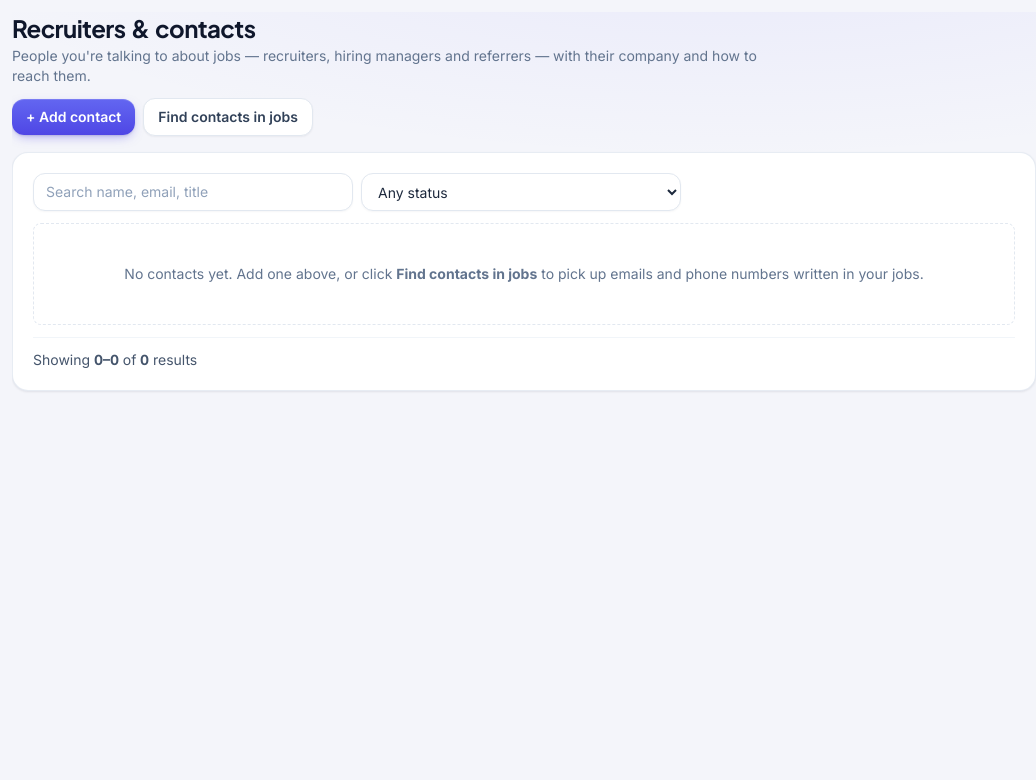
Scenario: forms open on request › recruiters: Add contact opens the form
Expected: the button "Save contact" is not shown
Click the button "+ Add contact". click: point(74, 117)
box: [12, 99, 135, 135]
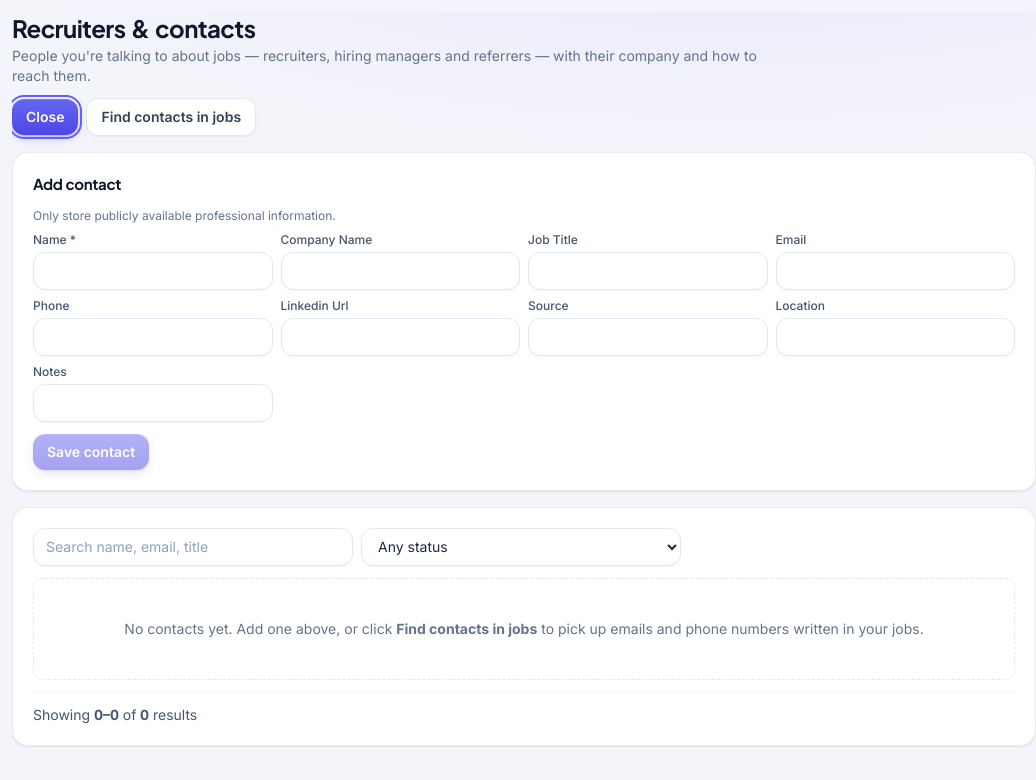
Result: the button "Save contact" is disabled at [33, 434, 149, 470]
